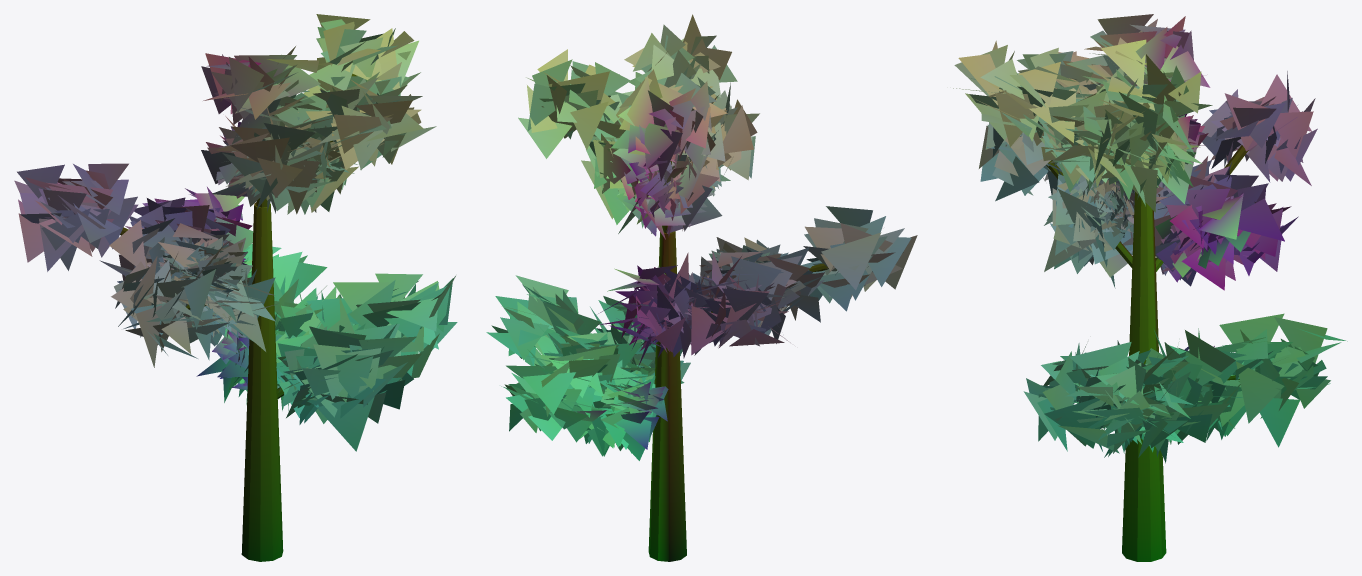
Rendered from ecological_broadleaf_young_01.glb.
3 renders of one model, left to right at view 1: azimuth 30°, elevation 25°; view 2: azimuth 150°, elevation 25°; view 3: azimuth 270°, elevation 25°, orthographic. The views are drawn at different scales.
Visible parts, largest first — view 1: ecological_broadleaf_young_01; view 2: ecological_broadleaf_young_01; view 3: ecological_broadleaf_young_01.
Boxes of the visible parts, left/top/right/bottom form: ecological_broadleaf_young_01: left=14, top=14, right=457, bottom=561; ecological_broadleaf_young_01: left=486, top=14, right=917, bottom=561; ecological_broadleaf_young_01: left=953, top=14, right=1347, bottom=561.
Bounding box in the file's own units: 8.08 × 10.09 × 6.92.
